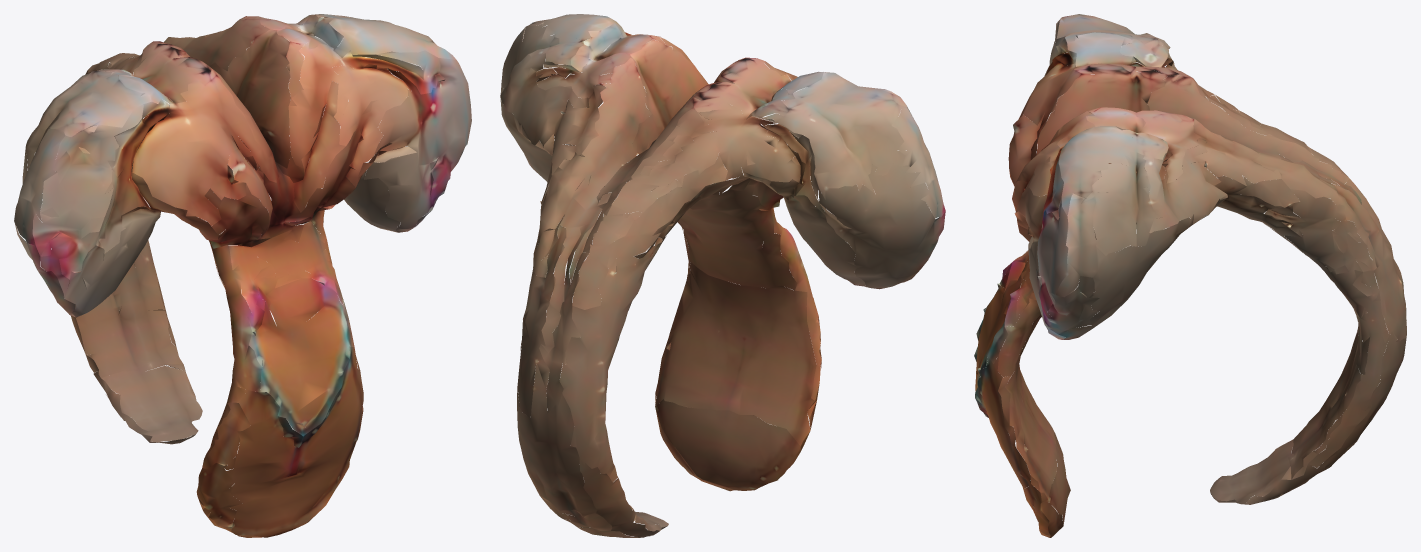
Rendered from arms.glb.
3 views of the same model, side by side, from view 1: azimuth 30°, elevation 25°; view 2: azimuth 150°, elevation 25°; view 3: azimuth 270°, elevation 25° (orthographic). The views are drawn at different scales.
Visible parts, largest first — view 1: geometry_0; view 2: geometry_0; view 3: geometry_0.
Part boxes in pixels (bbox=[...]): geometry_0: bbox=[14, 14, 471, 537]; geometry_0: bbox=[500, 14, 945, 537]; geometry_0: bbox=[974, 14, 1406, 537].
Bounding box in the file's own units: 1.91 × 1.94 × 1.7.
1 material, 1 textured.
